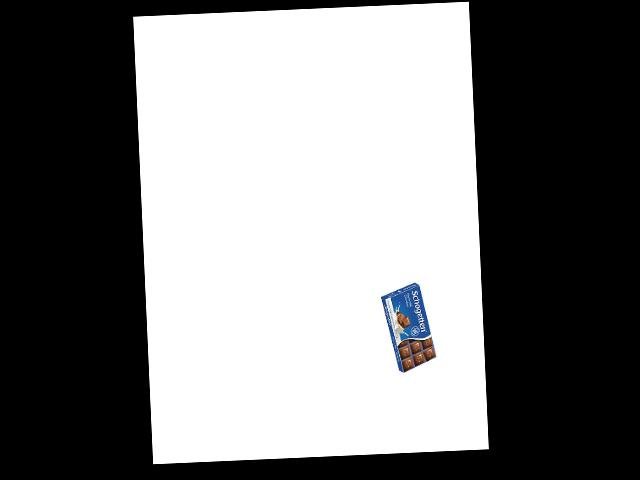chocolate: (387, 280, 437, 374)
